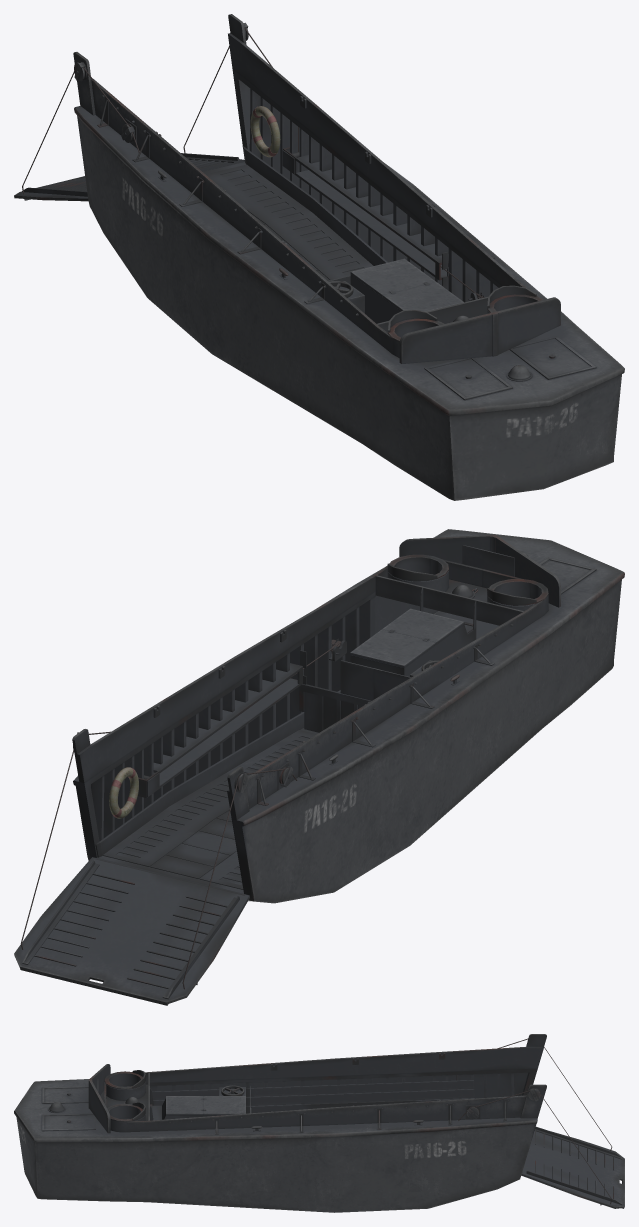
Rendered from lcvp_aberto.glb.
3 views of the same model, one above another, from view 1: azimuth 30°, elevation 25°; view 2: azimuth 150°, elevation 25°; view 3: azimuth 270°, elevation 25° (orthographic). The views are drawn at different scales.
Visible parts, largest first — view 1: lcvp_LCVP_0, door_LCVP_0, torret2_LCVP_0, torret1_LCVP_0, lifesaver_lifesaver_0, cable_cable_0; view 2: lcvp_LCVP_0, door_LCVP_0, torret1_LCVP_0, torret2_LCVP_0, cable_cable_0, lifesaver_lifesaver_0; view 3: lcvp_LCVP_0, door_LCVP_0, torret2_LCVP_0, torret1_LCVP_0, cable_cable_0.
Part boxes in pixels (x1,y1,x2,y2): lcvp_LCVP_0: (73,14,624,500); door_LCVP_0: (14,153,244,201); torret2_LCVP_0: (388,310,444,341); torret1_LCVP_0: (487,285,543,312); lifesaver_lifesaver_0: (250,106,280,157); cable_cable_0: (22,28,482,298); lcvp_LCVP_0: (72,529,624,903); door_LCVP_0: (14,857,249,1005); torret1_LCVP_0: (387,554,448,581); torret2_LCVP_0: (487,579,548,605); cable_cable_0: (20,641,341,989); lifesaver_lifesaver_0: (109,767,138,818); lcvp_LCVP_0: (14,1034,546,1212); door_LCVP_0: (521,1126,624,1208); torret2_LCVP_0: (104,1070,145,1089); torret1_LCVP_0: (107,1102,145,1121); cable_cable_0: (456,1038,612,1204).
Bounding box in the file's own units: 3 × 2.75 × 11.5.
4 materials, 4 textured.
